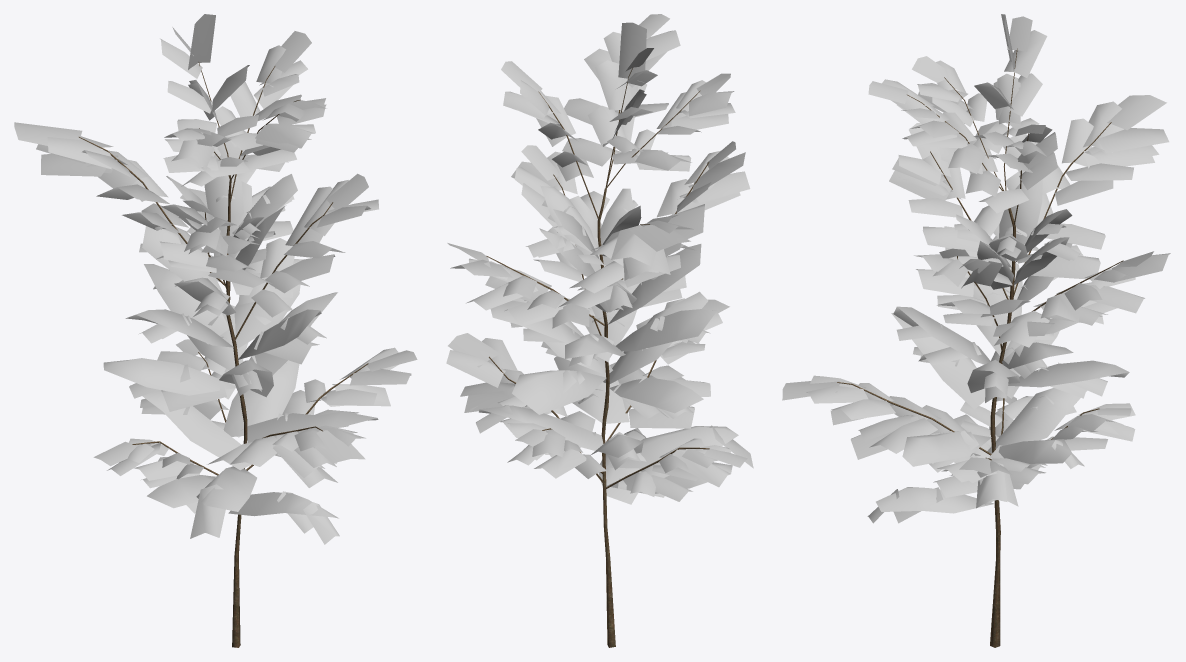
Rendered from Tree_Small1_LOD2.fbx.
3 views of the same model, side by side, from view 1: azimuth 30°, elevation 25°; view 2: azimuth 150°, elevation 25°; view 3: azimuth 270°, elevation 25° (orthographic). The views are drawn at different scales.
Visible parts, largest first — view 1: polySurface10; view 2: polySurface10; view 3: polySurface10.
Boxes of the visible parts, x1=… form: polySurface10: x1=14, y1=14, x2=417, y2=647; polySurface10: x1=446, y1=14, x2=753, y2=647; polySurface10: x1=782, y1=14, x2=1170, y2=647.
Size of the model in its own units: 241 by 463 by 264.
